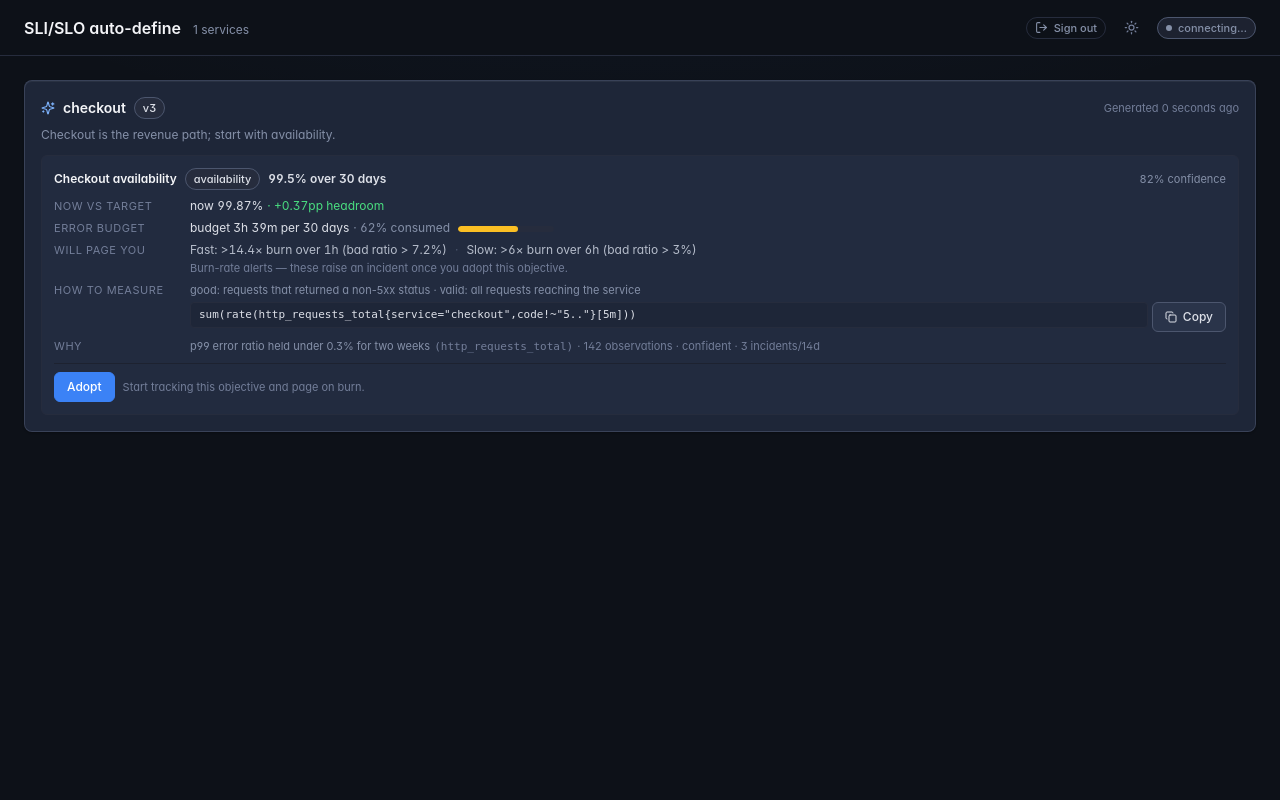
it: SLORecommendationsPage — adopt › confirms, POSTs the adoption and shows the adopted state
Click the button with test id "slo-adopt-btn".
click(84, 387)  # box [54, 372, 115, 402]
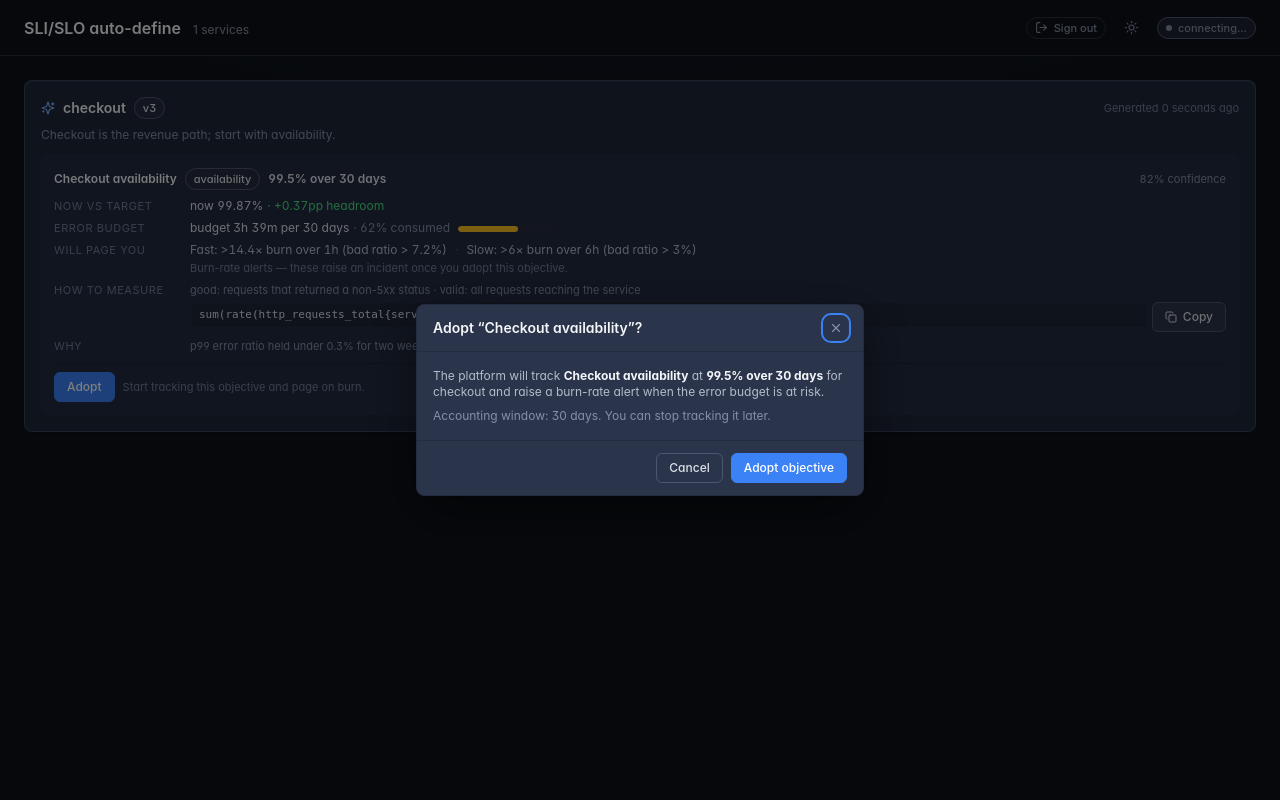
Expected: the dialog shows "raise a burn-rate alert", [485, 384, 824, 399]
Click the button "Adopt objective".
click(789, 468)  # box [731, 453, 847, 483]
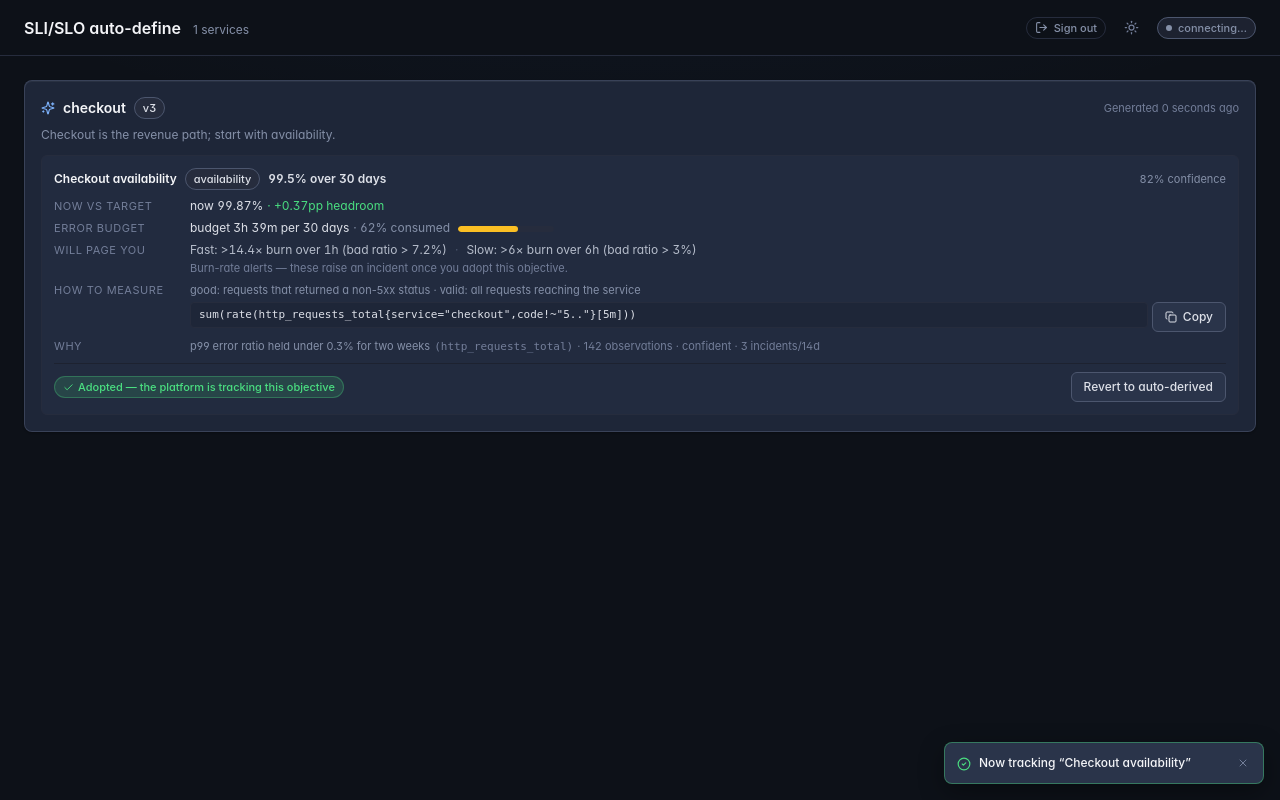
Expected: the text "Adopted — the platform is tracking this objective" is shown, [78, 379, 335, 395]
Expected: the button with test id "slo-adopt-btn" is gone
